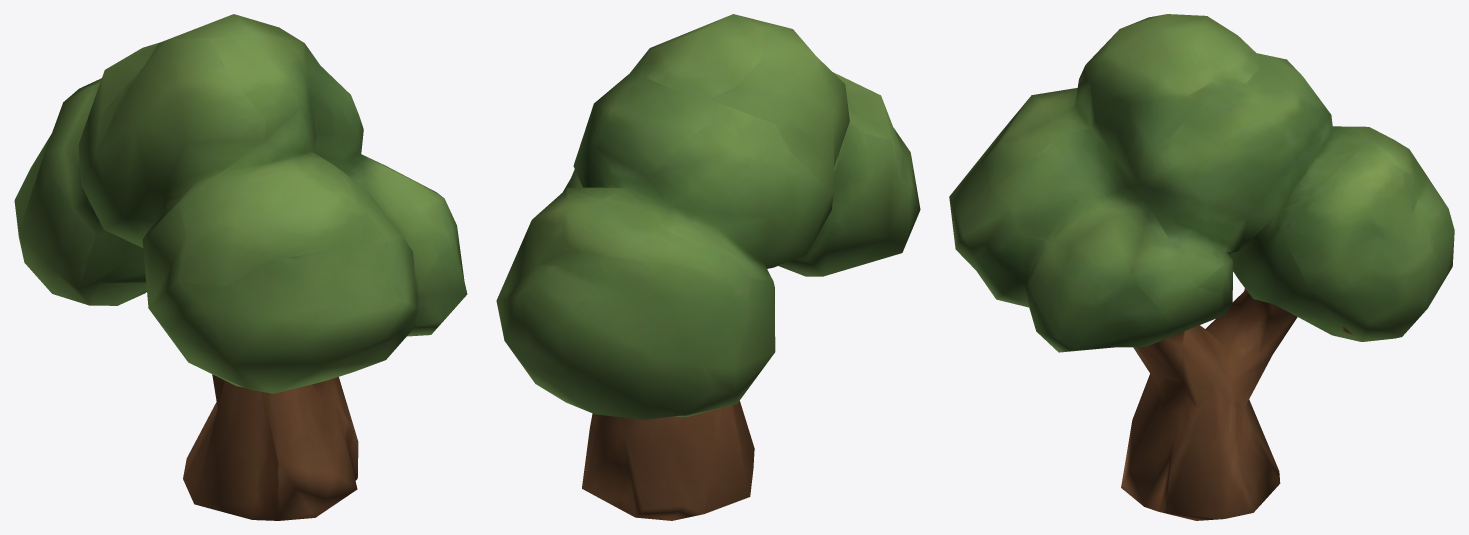
Rendered from tree-oak-lite.glb.
The picture shows the model from 3 angles, left to right: view 1: azimuth 30°, elevation 25°; view 2: azimuth 150°, elevation 25°; view 3: azimuth 270°, elevation 25°; orthographic projection. The views are drawn at different scales.
Parts seen in each view (by area): view 1: tripo_node_73333322-b226-410f-b96a-1004a57c4418; view 2: tripo_node_73333322-b226-410f-b96a-1004a57c4418; view 3: tripo_node_73333322-b226-410f-b96a-1004a57c4418.
Part boxes in pixels (left/top/right/bottom): tripo_node_73333322-b226-410f-b96a-1004a57c4418: left=14, top=14, right=467, bottom=520; tripo_node_73333322-b226-410f-b96a-1004a57c4418: left=496, top=14, right=920, bottom=520; tripo_node_73333322-b226-410f-b96a-1004a57c4418: left=949, top=14, right=1454, bottom=520.
Size of the model in its own units: 0.6326 by 0.9513 by 0.989.
1 material, 1 textured.
